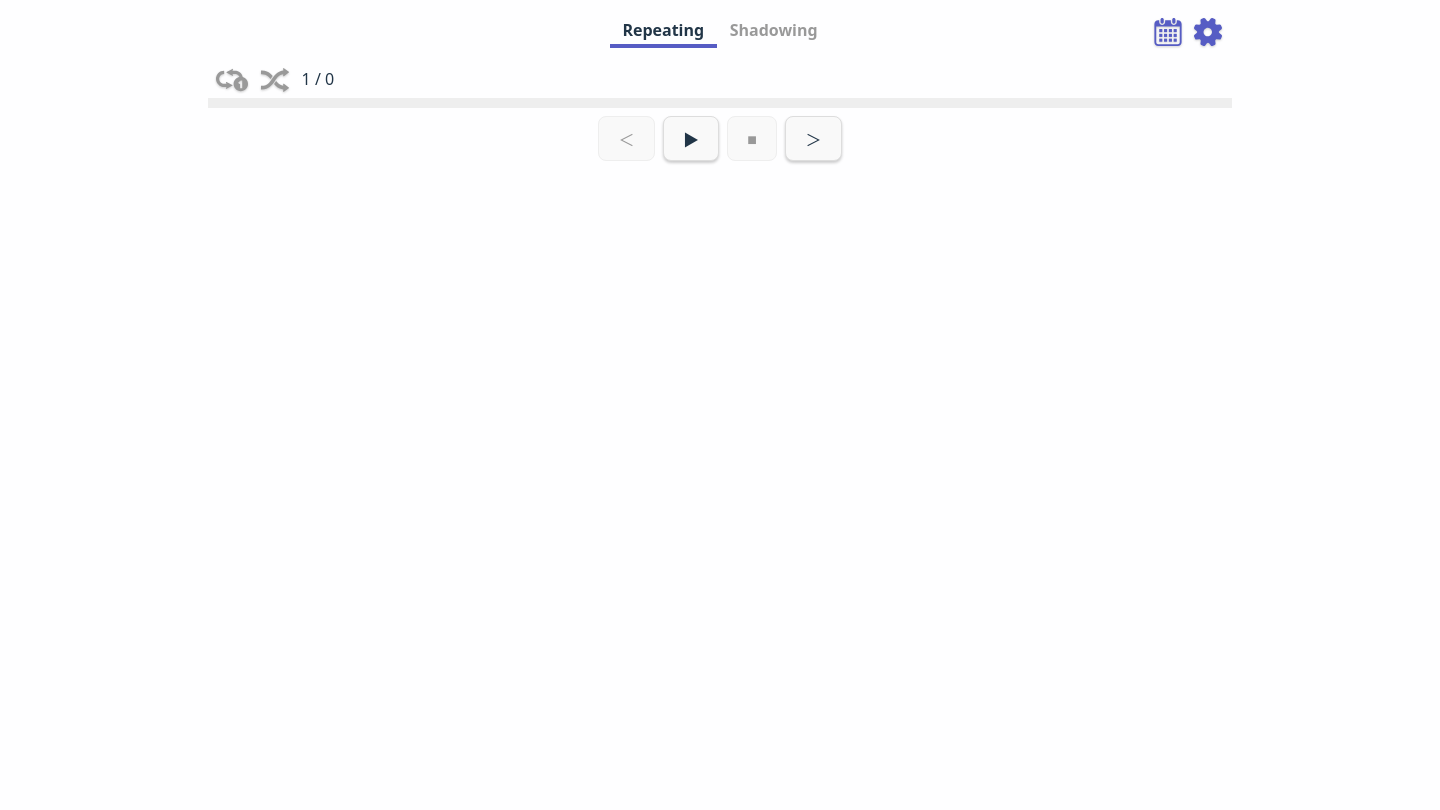
Test case: SECTION一覧 › 選択済みのセクション数と文の合計が表示される
The width and height of the screenshot is (1440, 810).
Click the button named "設定": (1208, 32) [1192,16,1224,48]
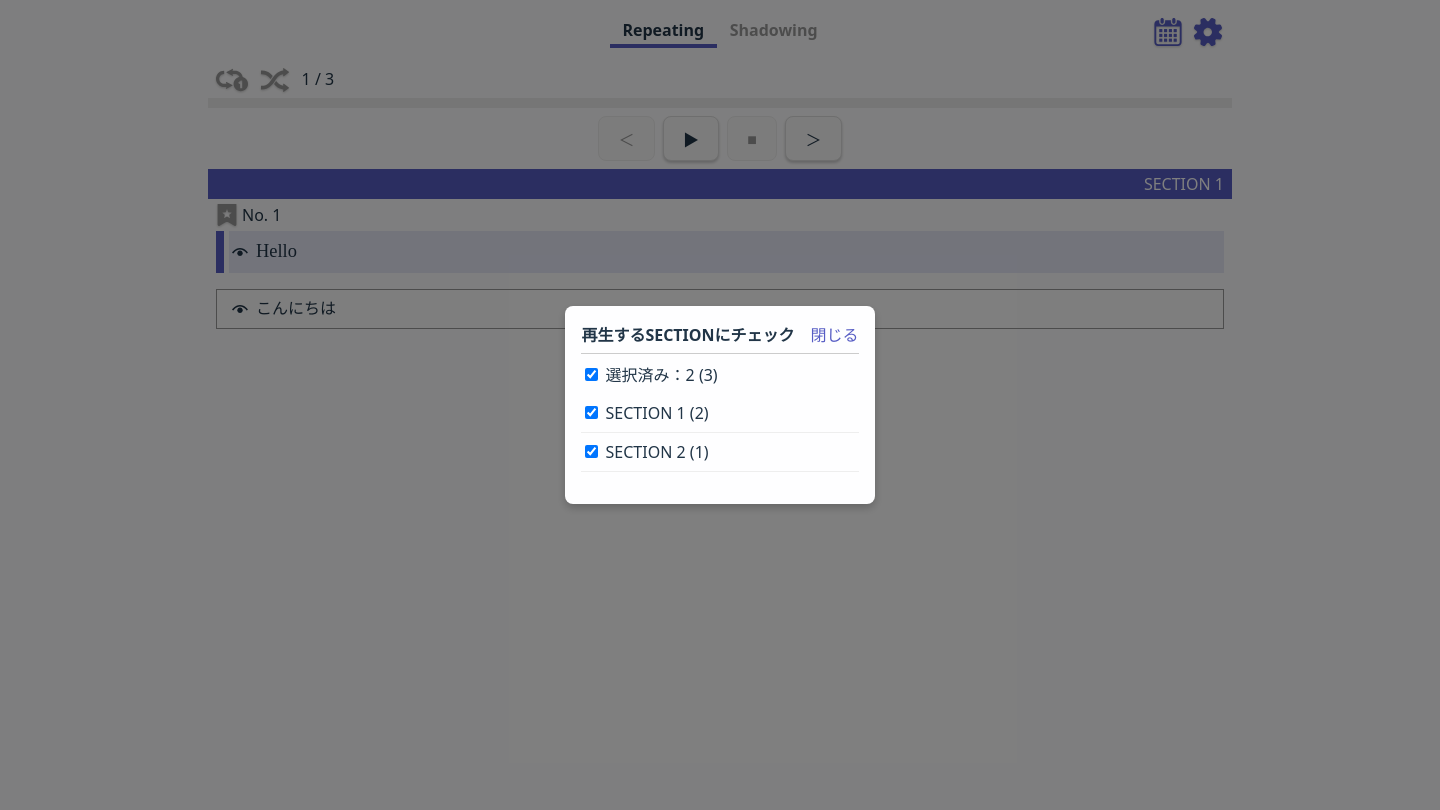
Result: the text "選択済み：2 (3)" is shown at [585,364,718,386]
Note: SECTION 1のチェックを外す
Click the checkbox labelled "SECTION 1 (2)": (592, 412) [585,406,598,419]
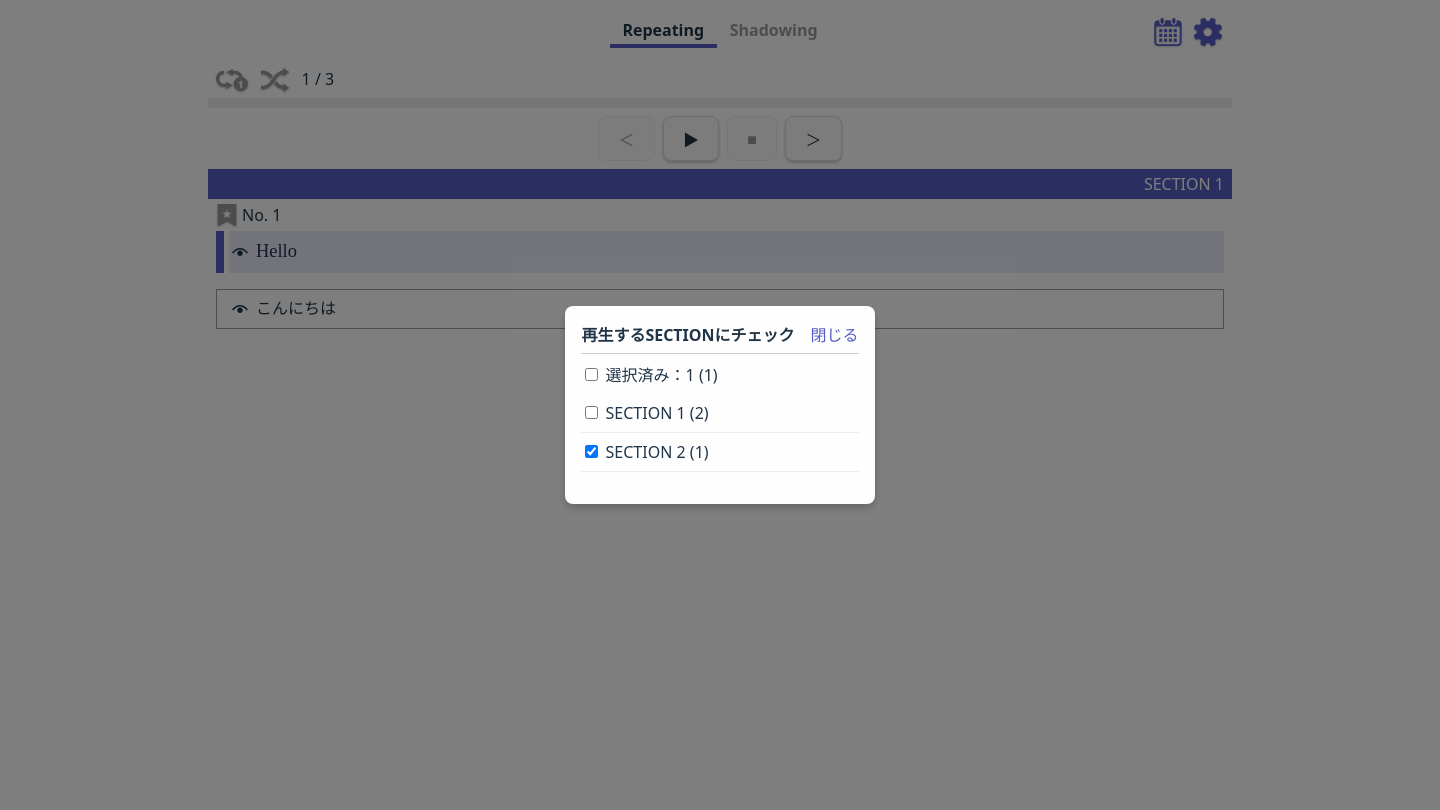
Result: the text "選択済み：1 (1)" is shown at [585,364,718,386]
Note: SECTION 2のチェックを外す
Click the checkbox labelled "SECTION 2 (1)": (592, 451) [585,445,598,458]
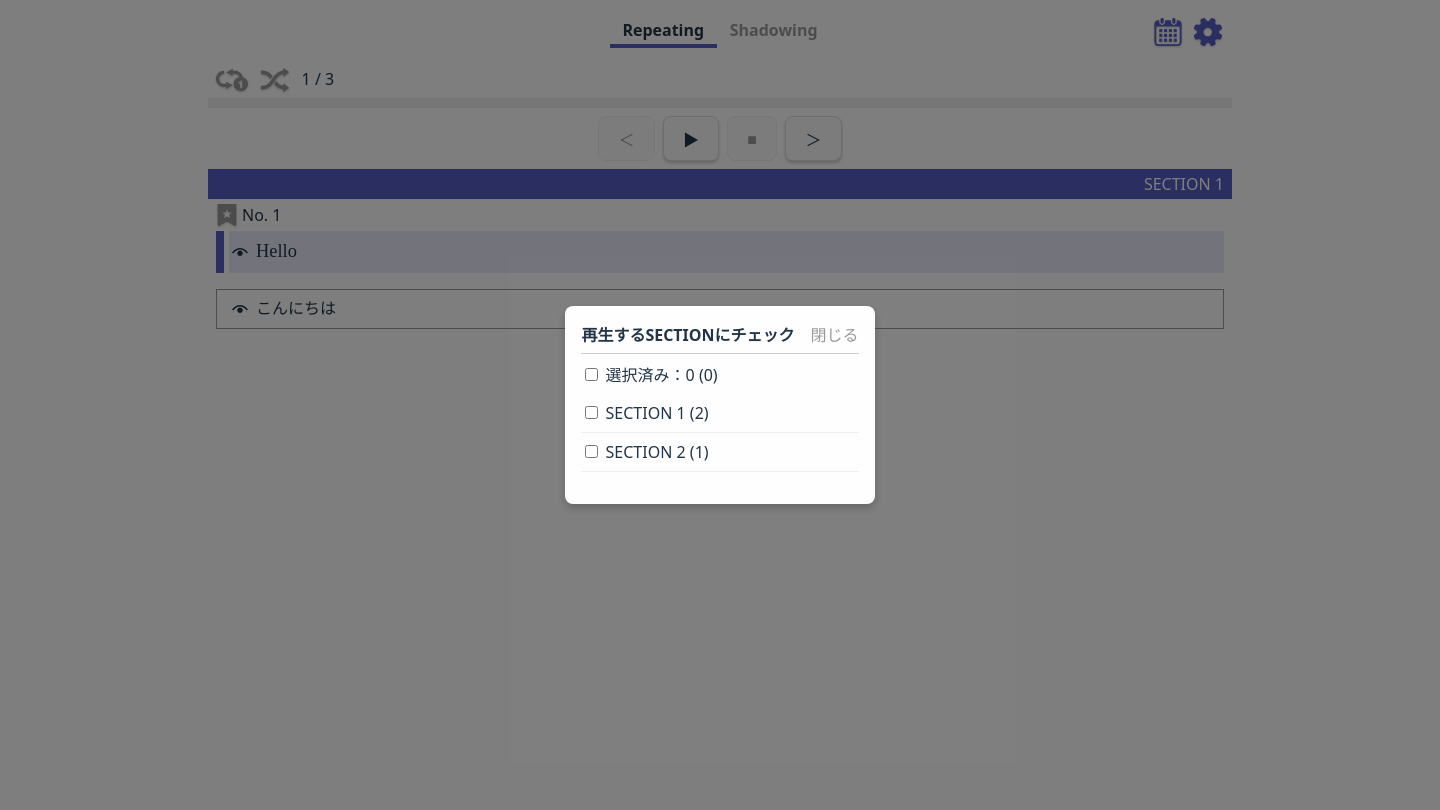
Result: the text "選択済み：0 (0)" is shown at [585,364,718,386]
Note: SECTION 1のチェックを入れる
Click the checkbox labelled "SECTION 1 (2)": (592, 412) [585,406,598,419]
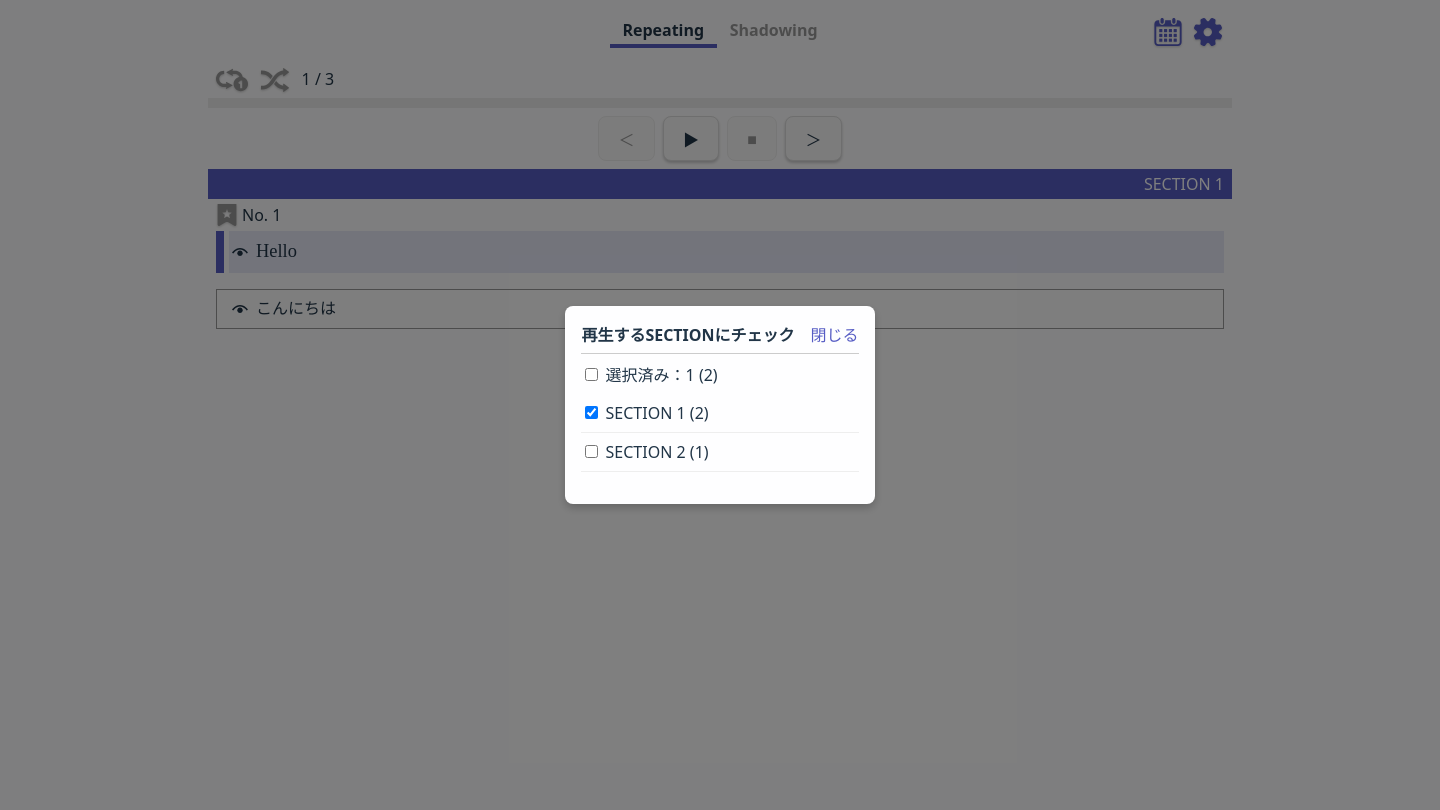
Result: the text "選択済み：1 (2)" is shown at [585,364,718,386]
